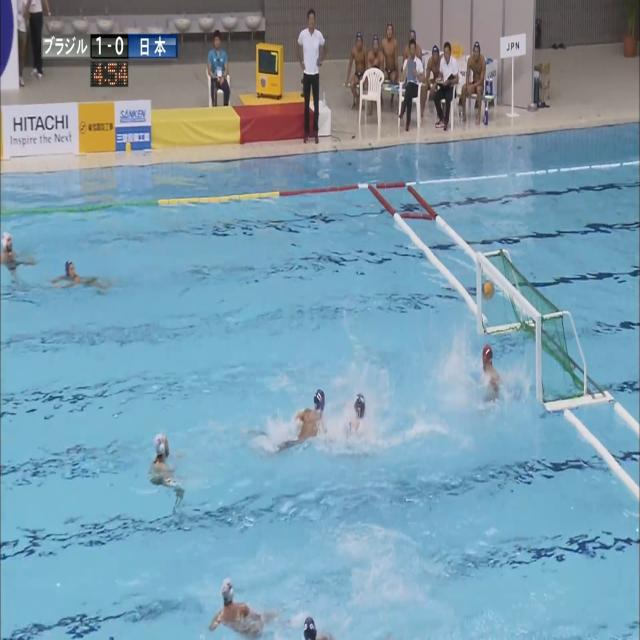ball: (483, 280, 494, 300)
